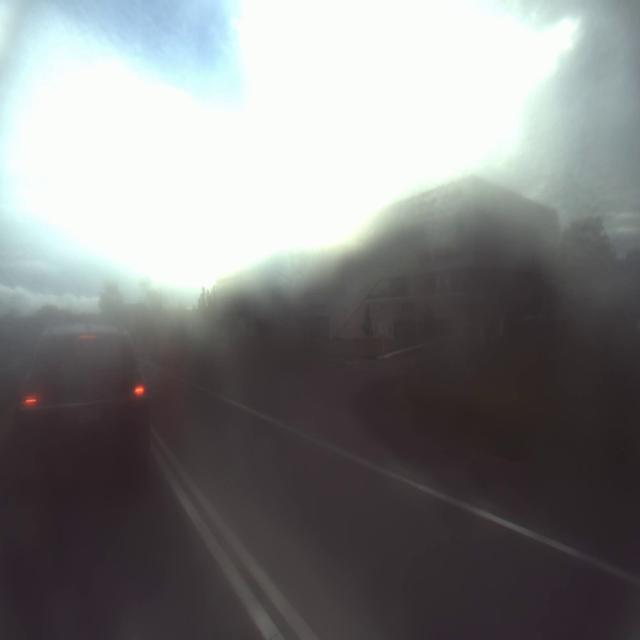car: (20, 301, 147, 497)
